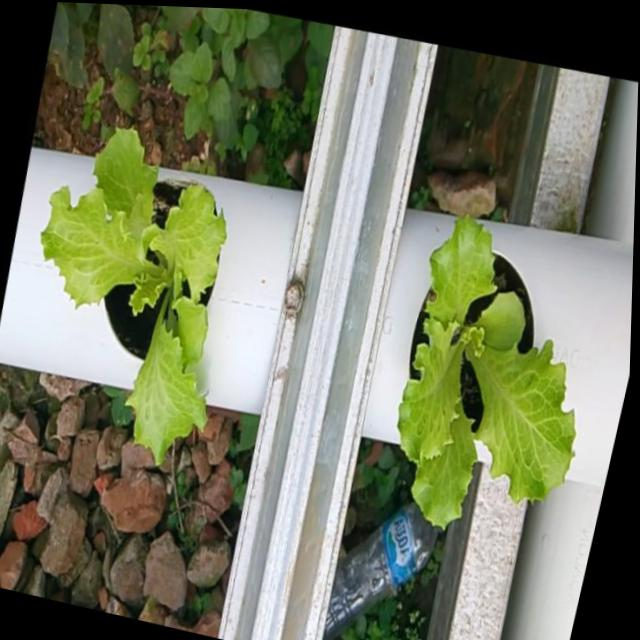Baby: (34, 114, 222, 455), (393, 203, 573, 523)
